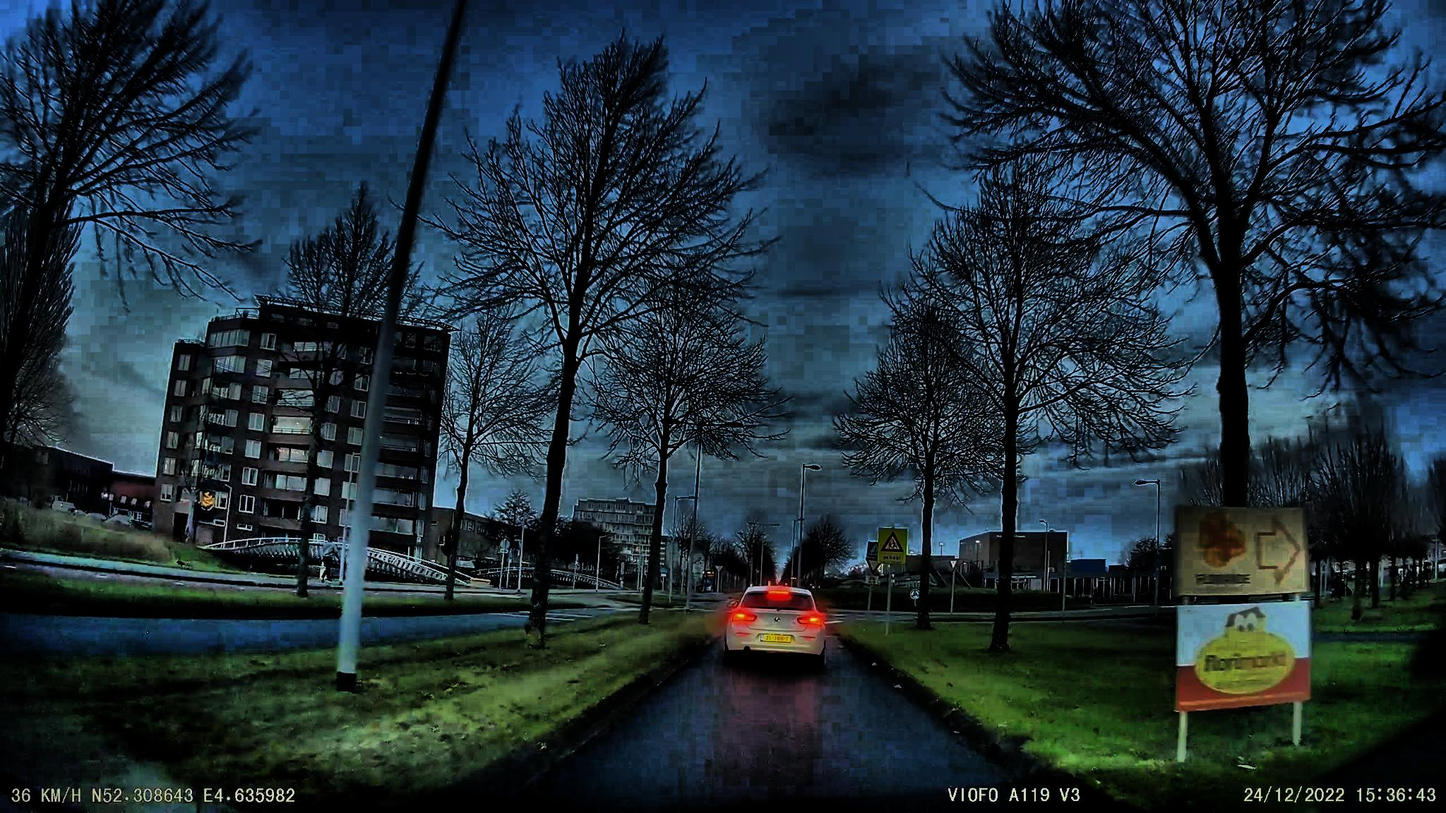Roads: (506, 637, 1120, 813)
